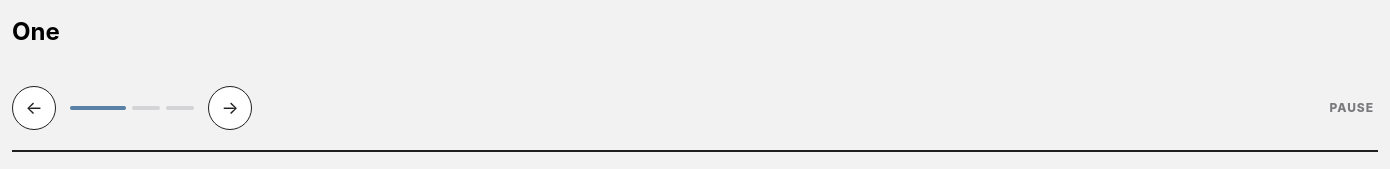
LeadCarousel › pause stops the rotation and play resumes it
This screenshot has width=1390, height=169.
Click the button "Pause" at point(1352, 108), box [1326,86,1378,130]
Wait 20000 ms
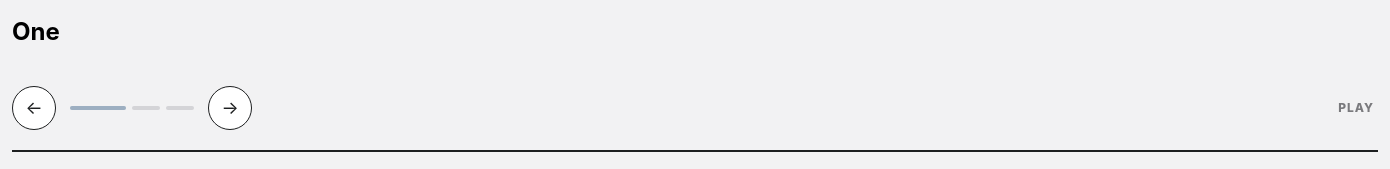
Check: the element with class "is-active" reads "One", box [12,17,60,46]
Click the button "Play" at point(1356, 108), box [1334,86,1378,130]
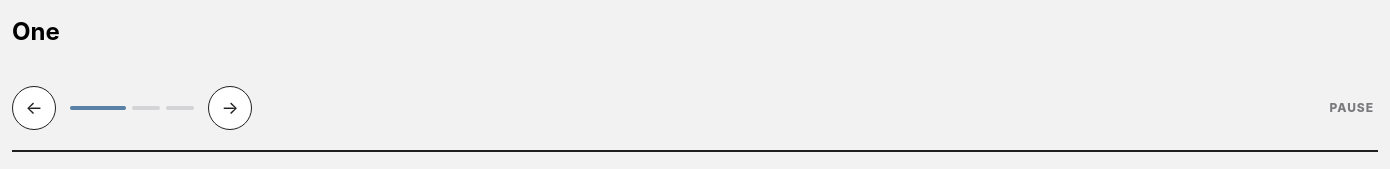
Leave the button "Pause", box [1326,86,1378,130]
Wait 5000 ms
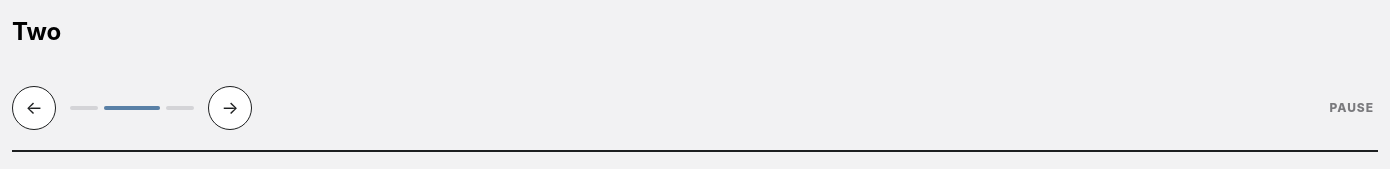
Check: the element with class "is-active" reads "Two", box [12,17,61,46]
